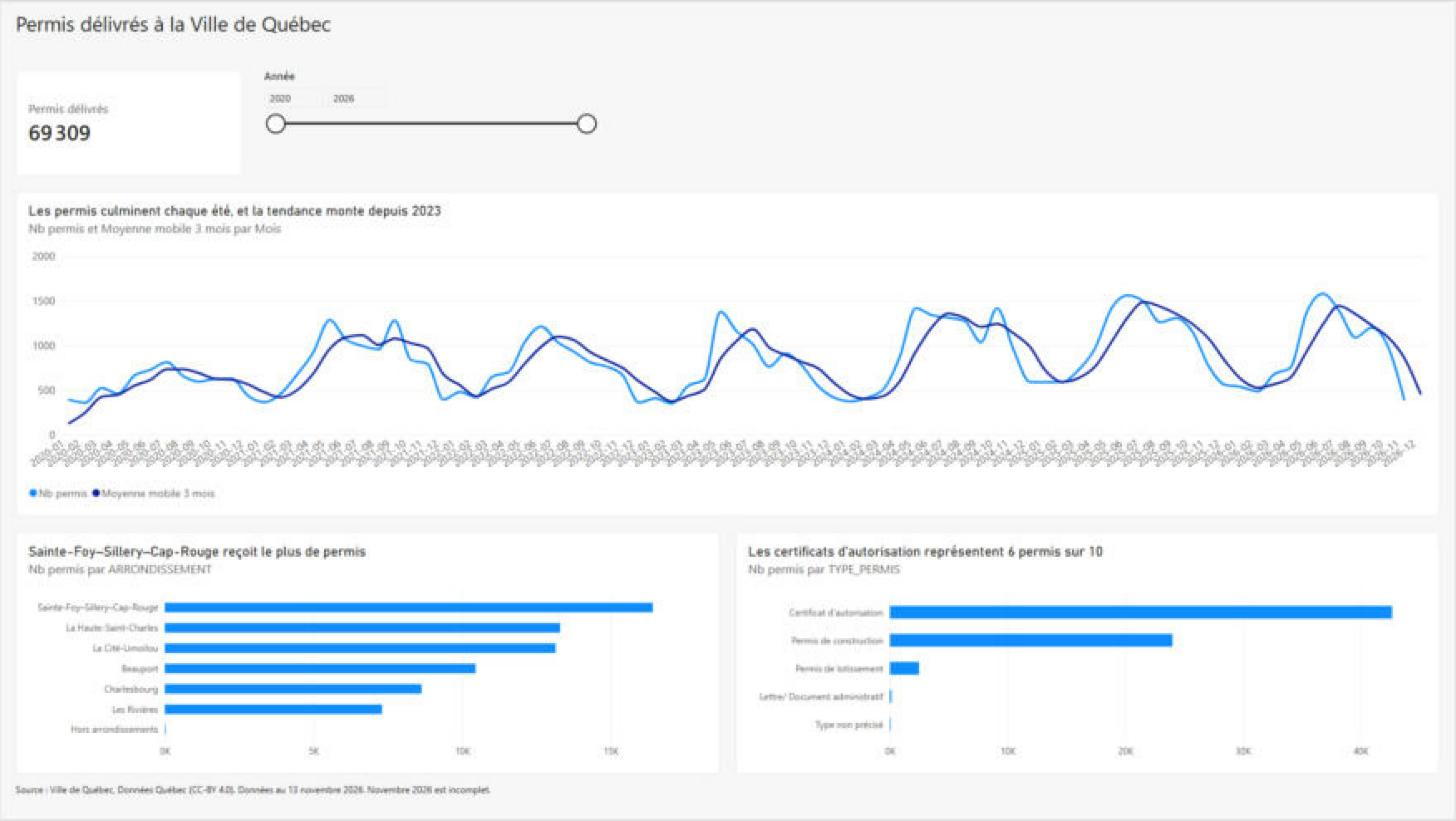

This screenshot's page, from the dashboard's own definition file:
{"tool":"powerbi","page":{"name":"Page 1","canvas":[1920,1080],"ordinal":0},"visuals":[{"type":"cardVisual","fields":{"Data":["permis_clean.Nb permis affiche"]},"box":[20,90,300,140],"z":0},{"type":"lineChart","title":"Les permis culminent chaque été, et la tendance monte depuis 2023\t","fields":{"Category":["Calendrier.Mois"],"Y":["permis_clean.Nb permis","Calendrier.Moyenne mobile 3 mois"]},"box":[20,250,1880,430],"z":1},{"type":"clusteredBarChart","title":"Les certificats d''autorisation représentent 6 permis sur 10\t","fields":{"Category":["permis_clean.TYPE_PERMIS"],"Y":["permis_clean.Nb permis"]},"box":[970,700,930,320],"z":2},{"type":"slicer","fields":{"Values":["Calendrier.Annee"]},"box":[340,90,450,140],"z":3},{"type":"textbox","box":[20,10,1250,60],"z":5},{"type":"textbox","box":[20,1030,1880,45],"z":6},{"type":"clusteredBarChart","title":"Sainte-Foy–Sillery–Cap-Rouge reçoit le plus de permis\t","fields":{"Category":["permis_clean.ARRONDISSEMENT"],"Y":["permis_clean.Nb permis"]},"box":[20,700,930,320],"z":7}]}

Visuals, with their boxes in screenshot pixels (x1, y1, x2, y2), scaled from the page's 1920x1080 canvas onto the 1456x821 screenshot:
cardVisual - permis_clean.Nb permis affiche: select_region(15, 68, 243, 175)
"Les permis culminent chaque été, et la tendance monte depuis 2023	" lineChart: select_region(15, 190, 1441, 517)
"Les certificats d''autorisation représentent 6 permis sur 10	" clusteredBarChart: select_region(736, 532, 1441, 775)
slicer - Calendrier.Annee: select_region(258, 68, 599, 175)
textbox: select_region(15, 8, 963, 53)
textbox: select_region(15, 783, 1441, 817)
"Sainte-Foy–Sillery–Cap-Rouge reçoit le plus de permis	" clusteredBarChart: select_region(15, 532, 720, 775)
